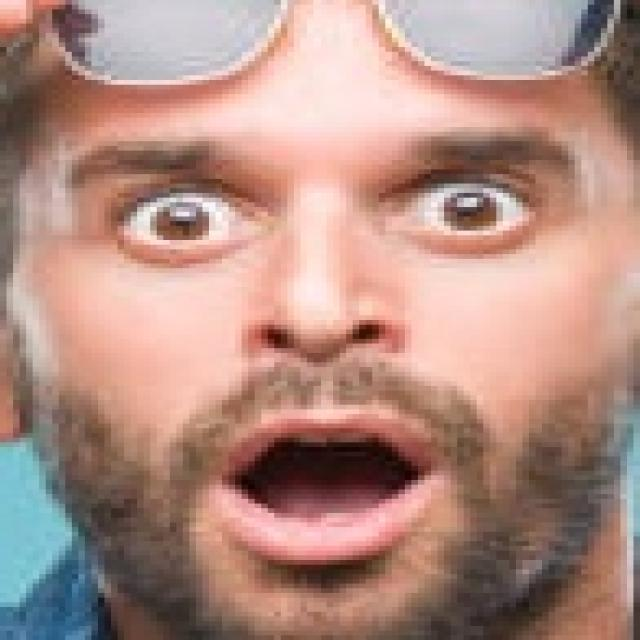Anxiety: (0, 81, 633, 635)
